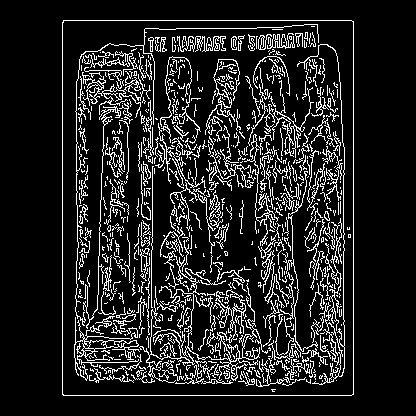buddha-standing: (250, 57, 310, 348)
